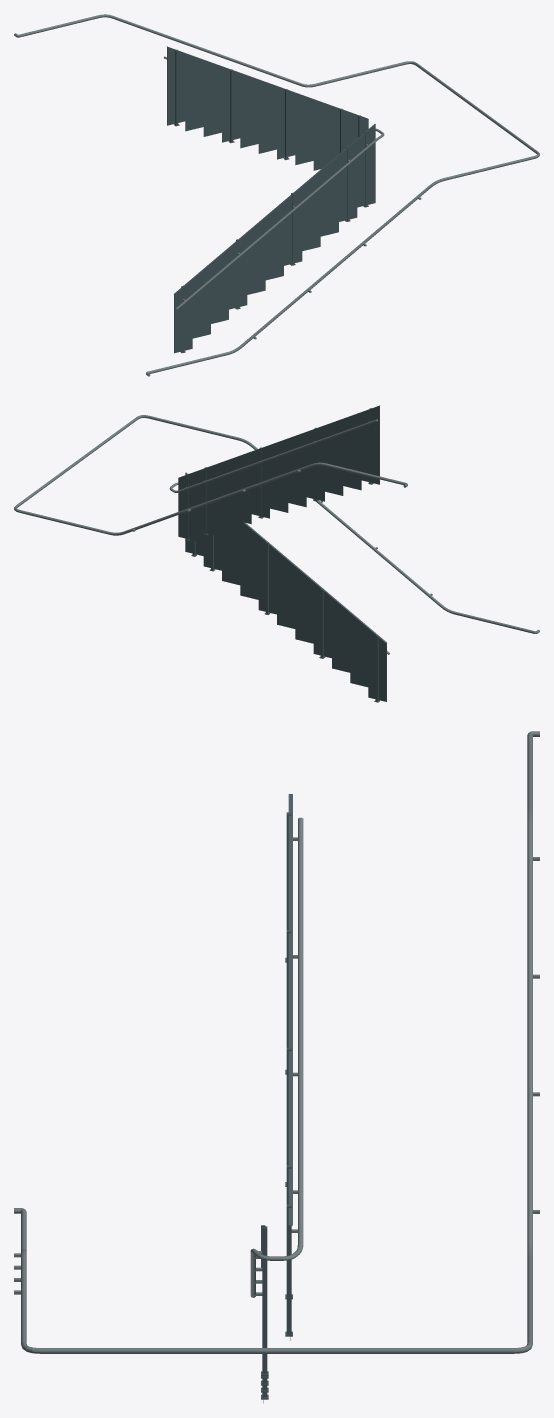
3 renders of one model, top to bottom at view 1: azimuth 30°, elevation 25°; view 2: azimuth 150°, elevation 25°; view 3: azimuth 270°, elevation 25°, orthographic. The views are drawn at different scales.
Parts seen in each view (by area): view 1: HR-B_Upper_FoldedGuard_00, HR-B_Lower_FoldedGuard_02, HR-B_Upper_FoldedGuard_01, HR-B_Lower_FoldedGuard_01, HR-B_Lower_FoldedGuard_00, HR-B_WallGrip, HR-B_Upper_FoldedGuard_02, HR-B_InnerGrip; view 2: HR-B_Upper_FoldedGuard_00, HR-B_Lower_FoldedGuard_01, HR-B_Upper_FoldedGuard_01, HR-B_Lower_FoldedGuard_00, HR-B_Upper_FoldedGuard_02, HR-B_WallGrip, HR-B_Lower_FoldedGuard_02, HR-B_InnerGrip; view 3: HR-B_WallGrip, HR-B_InnerGrip, HR-B_Lower_Post_04.
Part boxes in pixels (x1,y1,x2,y2): HR-B_Upper_FoldedGuard_00: [167, 47, 234, 142]; HR-B_Lower_FoldedGuard_02: [308, 125, 375, 249]; HR-B_Upper_FoldedGuard_01: [234, 71, 301, 165]; HR-B_Lower_FoldedGuard_01: [241, 182, 308, 306]; HR-B_Lower_FoldedGuard_00: [174, 239, 241, 353]; HR-B_WallGrip: [14, 14, 539, 376]; HR-B_Upper_FoldedGuard_02: [301, 95, 368, 170]; HR-B_InnerGrip: [164, 56, 384, 309]; HR-B_Upper_FoldedGuard_00: [312, 406, 379, 501]; HR-B_Lower_FoldedGuard_01: [252, 531, 319, 655]; HR-B_Upper_FoldedGuard_01: [245, 430, 312, 524]; HR-B_Lower_FoldedGuard_00: [319, 587, 386, 701]; HR-B_Upper_FoldedGuard_02: [178, 454, 245, 540]; HR-B_WallGrip: [14, 415, 539, 633]; HR-B_Lower_FoldedGuard_02: [185, 473, 252, 598]; HR-B_InnerGrip: [169, 419, 389, 654]; HR-B_WallGrip: [14, 731, 539, 1353]; HR-B_InnerGrip: [250, 817, 303, 1297]; HR-B_Lower_Post_04: [262, 1226, 267, 1374].
Bounding box in the file's own units: 6.51 × 4.74 × 3.8.
